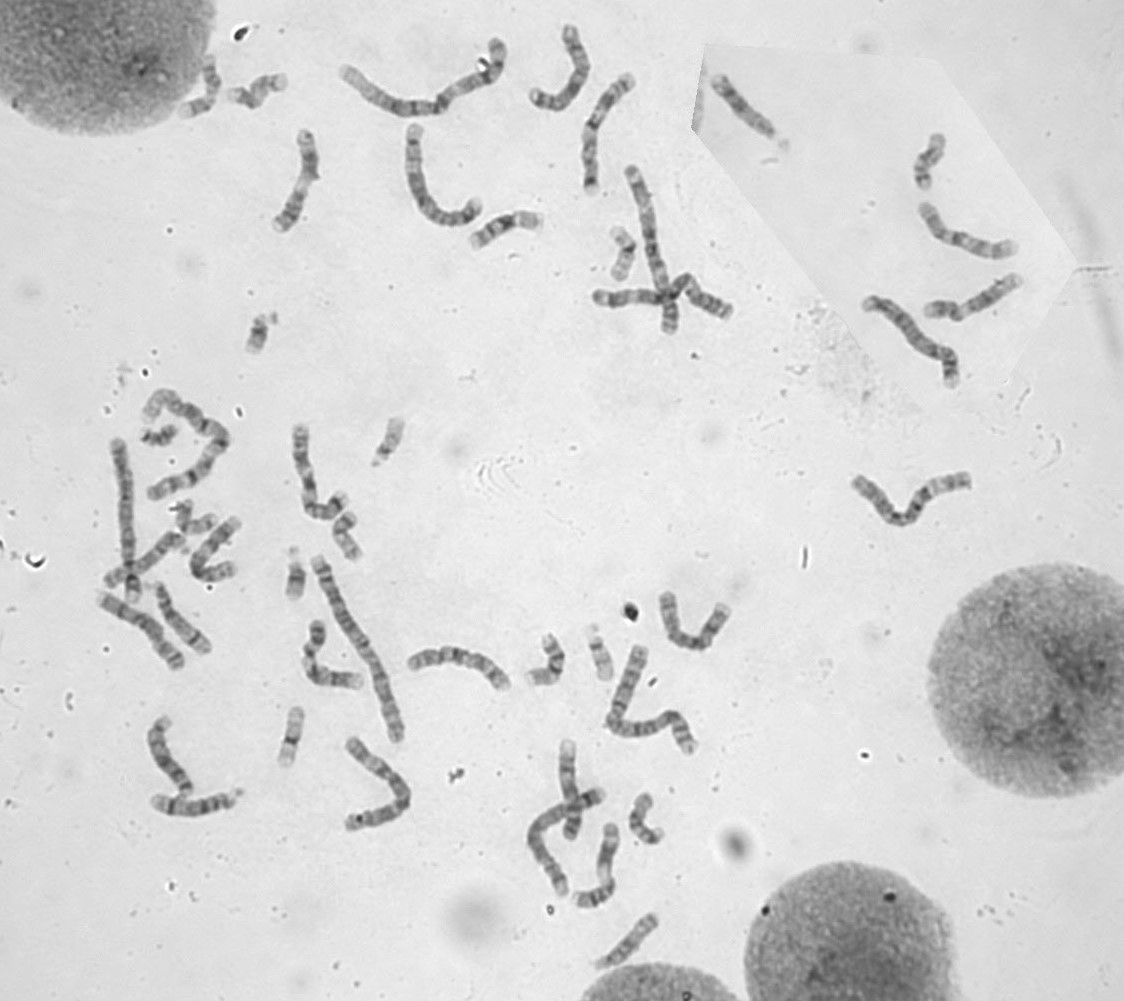chromosomes: (307, 550, 413, 747), (620, 160, 701, 346), (336, 40, 516, 119), (604, 638, 705, 768), (141, 384, 235, 506), (855, 292, 966, 389), (524, 781, 612, 901), (86, 583, 195, 673), (585, 265, 749, 324), (846, 458, 975, 531), (401, 126, 487, 235), (577, 69, 642, 202), (911, 198, 1027, 265), (338, 732, 412, 837), (520, 21, 600, 117), (106, 436, 149, 611), (287, 414, 354, 524), (916, 265, 1031, 323), (269, 122, 322, 243), (592, 904, 671, 981), (708, 70, 784, 150), (148, 578, 219, 663), (103, 527, 193, 593), (570, 822, 627, 917), (146, 709, 202, 803), (406, 644, 512, 693), (299, 614, 362, 695), (169, 48, 226, 134), (657, 588, 732, 652), (188, 512, 249, 587), (468, 204, 550, 259), (145, 781, 247, 821), (557, 735, 586, 849), (227, 69, 295, 116), (522, 629, 570, 693), (579, 623, 625, 689), (274, 700, 313, 777), (908, 126, 950, 197), (603, 219, 639, 285), (629, 785, 665, 849), (244, 306, 286, 360), (370, 411, 404, 474), (335, 506, 369, 568), (173, 495, 220, 538), (285, 541, 308, 602), (132, 425, 178, 451)
